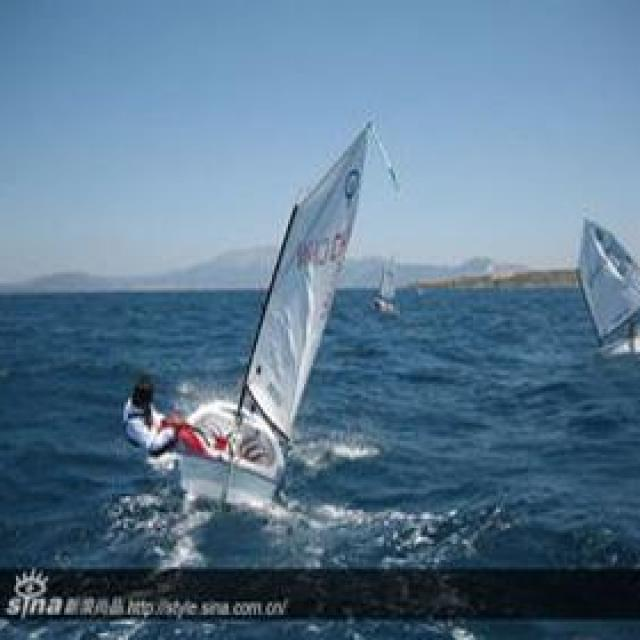sailboat: (168, 98, 379, 513), (557, 210, 640, 358), (374, 248, 406, 318)
